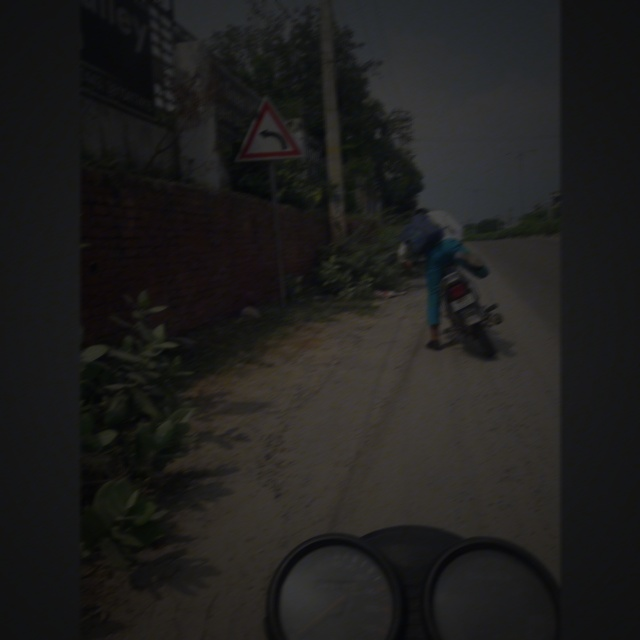Left_Hand_Curve: (232, 95, 307, 167)
